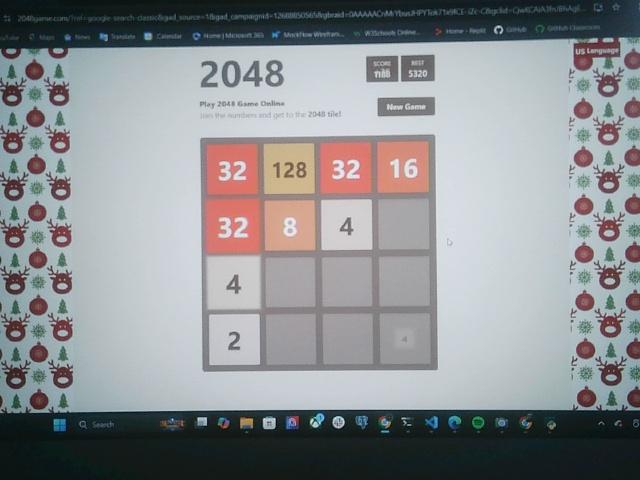board: (201, 137, 435, 370)
tile: (207, 256, 260, 311), (206, 200, 260, 252), (321, 142, 373, 194), (208, 315, 261, 365), (322, 200, 373, 251), (208, 144, 259, 194), (378, 143, 429, 193), (265, 201, 316, 251), (265, 144, 315, 194)
